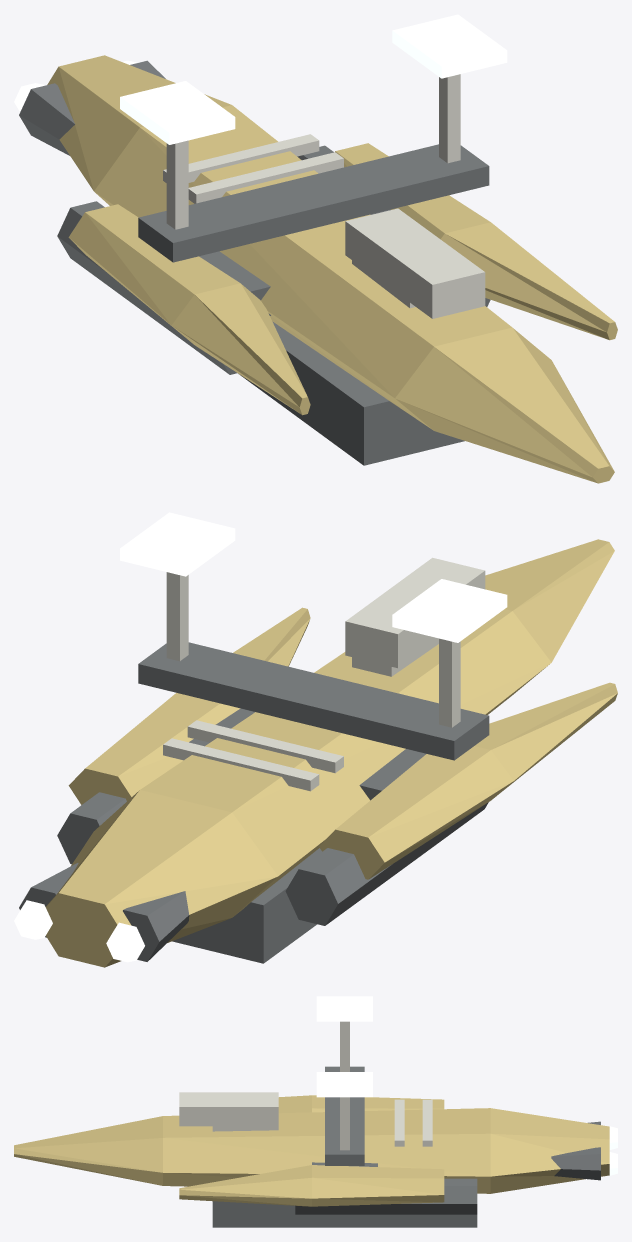
The picture shows the model from 3 angles, top to bottom: view 1: azimuth 30°, elevation 25°; view 2: azimuth 150°, elevation 25°; view 3: azimuth 270°, elevation 25°; orthographic projection. The views are drawn at different scales.
Bounding box in the file's own units: 2.59 × 2.1 × 6.94.
